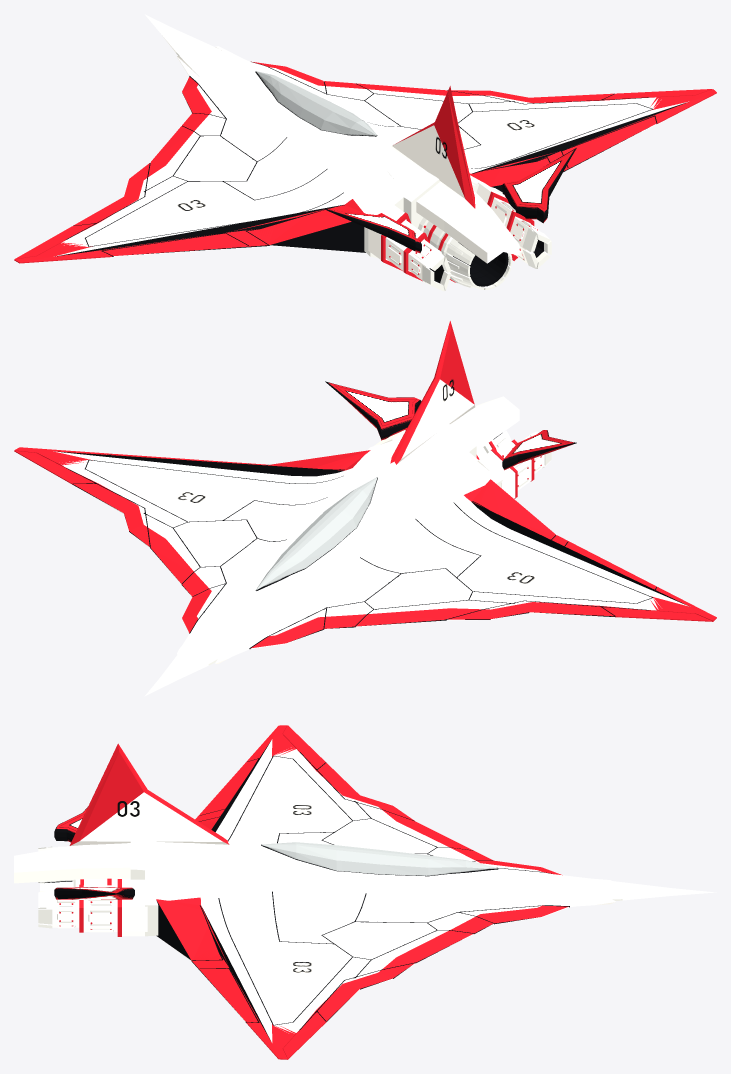
Rendered from A_comic.glb.
The picture shows the model from 3 angles, top to bottom: view 1: azimuth 30°, elevation 25°; view 2: azimuth 150°, elevation 25°; view 3: azimuth 270°, elevation 25°; orthographic projection. The views are drawn at different scales.
Parts seen in each view (by area): view 1: AF_MAIN_WING_L_01, AF_MAIN_WING_R_01, AF_BODY_01, AF_MATCH_AFT_SADDLE, AF_TAIL_CENTER_01, AF_DOME_CENTER_01, AF_REAR_WING_R1_R_reference_kite_outward_canted, AF_PENTAGON_L_STEPPED_HOUSING, AF_REAR_WING_R1_R_reference_kite_outward_canted_L, AF_ENGINE_THERMAL_LINER, AF_PENTAGON_R_STEPPED_HOUSING; view 2: AF_MAIN_WING_L_01, AF_MAIN_WING_R_01, AF_BODY_01, AF_TAIL_CENTER_01, AF_DOME_CENTER_01, AF_MATCH_AFT_SADDLE, AF_REAR_WING_R1_R_reference_kite_outward_canted, AF_REAR_WING_R1_R_reference_kite_outward_canted_L, AF_PENTAGON_L_STEPPED_HOUSING; view 3: AF_MAIN_WING_R_01, AF_BODY_01, AF_MAIN_WING_L_01, AF_TAIL_CENTER_01, AF_DOME_CENTER_01, AF_MATCH_AFT_SADDLE, AF_PENTAGON_R_STEPPED_HOUSING, AF_REAR_WING_R1_R_reference_kite_outward_canted.
Boxes of the visible parts, box(x1,y1,x2,y2) form: AF_MAIN_WING_L_01: box(14, 55, 365, 263); AF_MAIN_WING_R_01: box(215, 46, 716, 194); AF_BODY_01: box(145, 14, 502, 258); AF_MATCH_AFT_SADDLE: box(386, 155, 519, 263); AF_TAIL_CENTER_01: box(391, 86, 475, 208); AF_DOME_CENTER_01: box(255, 71, 377, 136); AF_REAR_WING_R1_R_reference_kite_outward_canted: box(502, 148, 576, 223); AF_PENTAGON_L_STEPPED_HOUSING: box(368, 203, 444, 282); AF_REAR_WING_R1_R_reference_kite_outward_canted_L: box(325, 209, 421, 252); AF_ENGINE_THERMAL_LINER: box(453, 242, 508, 286); AF_PENTAGON_R_STEPPED_HOUSING: box(476, 182, 547, 263); AF_MAIN_WING_L_01: box(215, 479, 716, 663); AF_MAIN_WING_R_01: box(14, 447, 370, 654); AF_BODY_01: box(144, 423, 502, 696); AF_TAIL_CENTER_01: box(390, 321, 475, 464); AF_DOME_CENTER_01: box(255, 477, 377, 590); AF_MATCH_AFT_SADDLE: box(386, 396, 519, 467); AF_REAR_WING_R1_R_reference_kite_outward_canted: box(325, 381, 421, 440); AF_REAR_WING_R1_R_reference_kite_outward_canted_L: box(502, 430, 576, 470); AF_PENTAGON_L_STEPPED_HOUSING: box(477, 433, 547, 498); AF_MAIN_WING_R_01: box(156, 893, 615, 1059); AF_BODY_01: box(130, 840, 716, 936); AF_MAIN_WING_L_01: box(195, 725, 611, 880); AF_TAIL_CENTER_01: box(69, 743, 229, 845); AF_DOME_CENTER_01: box(261, 842, 498, 876); AF_MATCH_AFT_SADDLE: box(14, 842, 203, 883); AF_PENTAGON_R_STEPPED_HOUSING: box(46, 879, 147, 936); AF_REAR_WING_R1_R_reference_kite_outward_canted: box(54, 887, 134, 899).
Size of the model in its own units: 14.65 by 3.93 by 13.03.
Materials: 22 (9 with a texture image).
